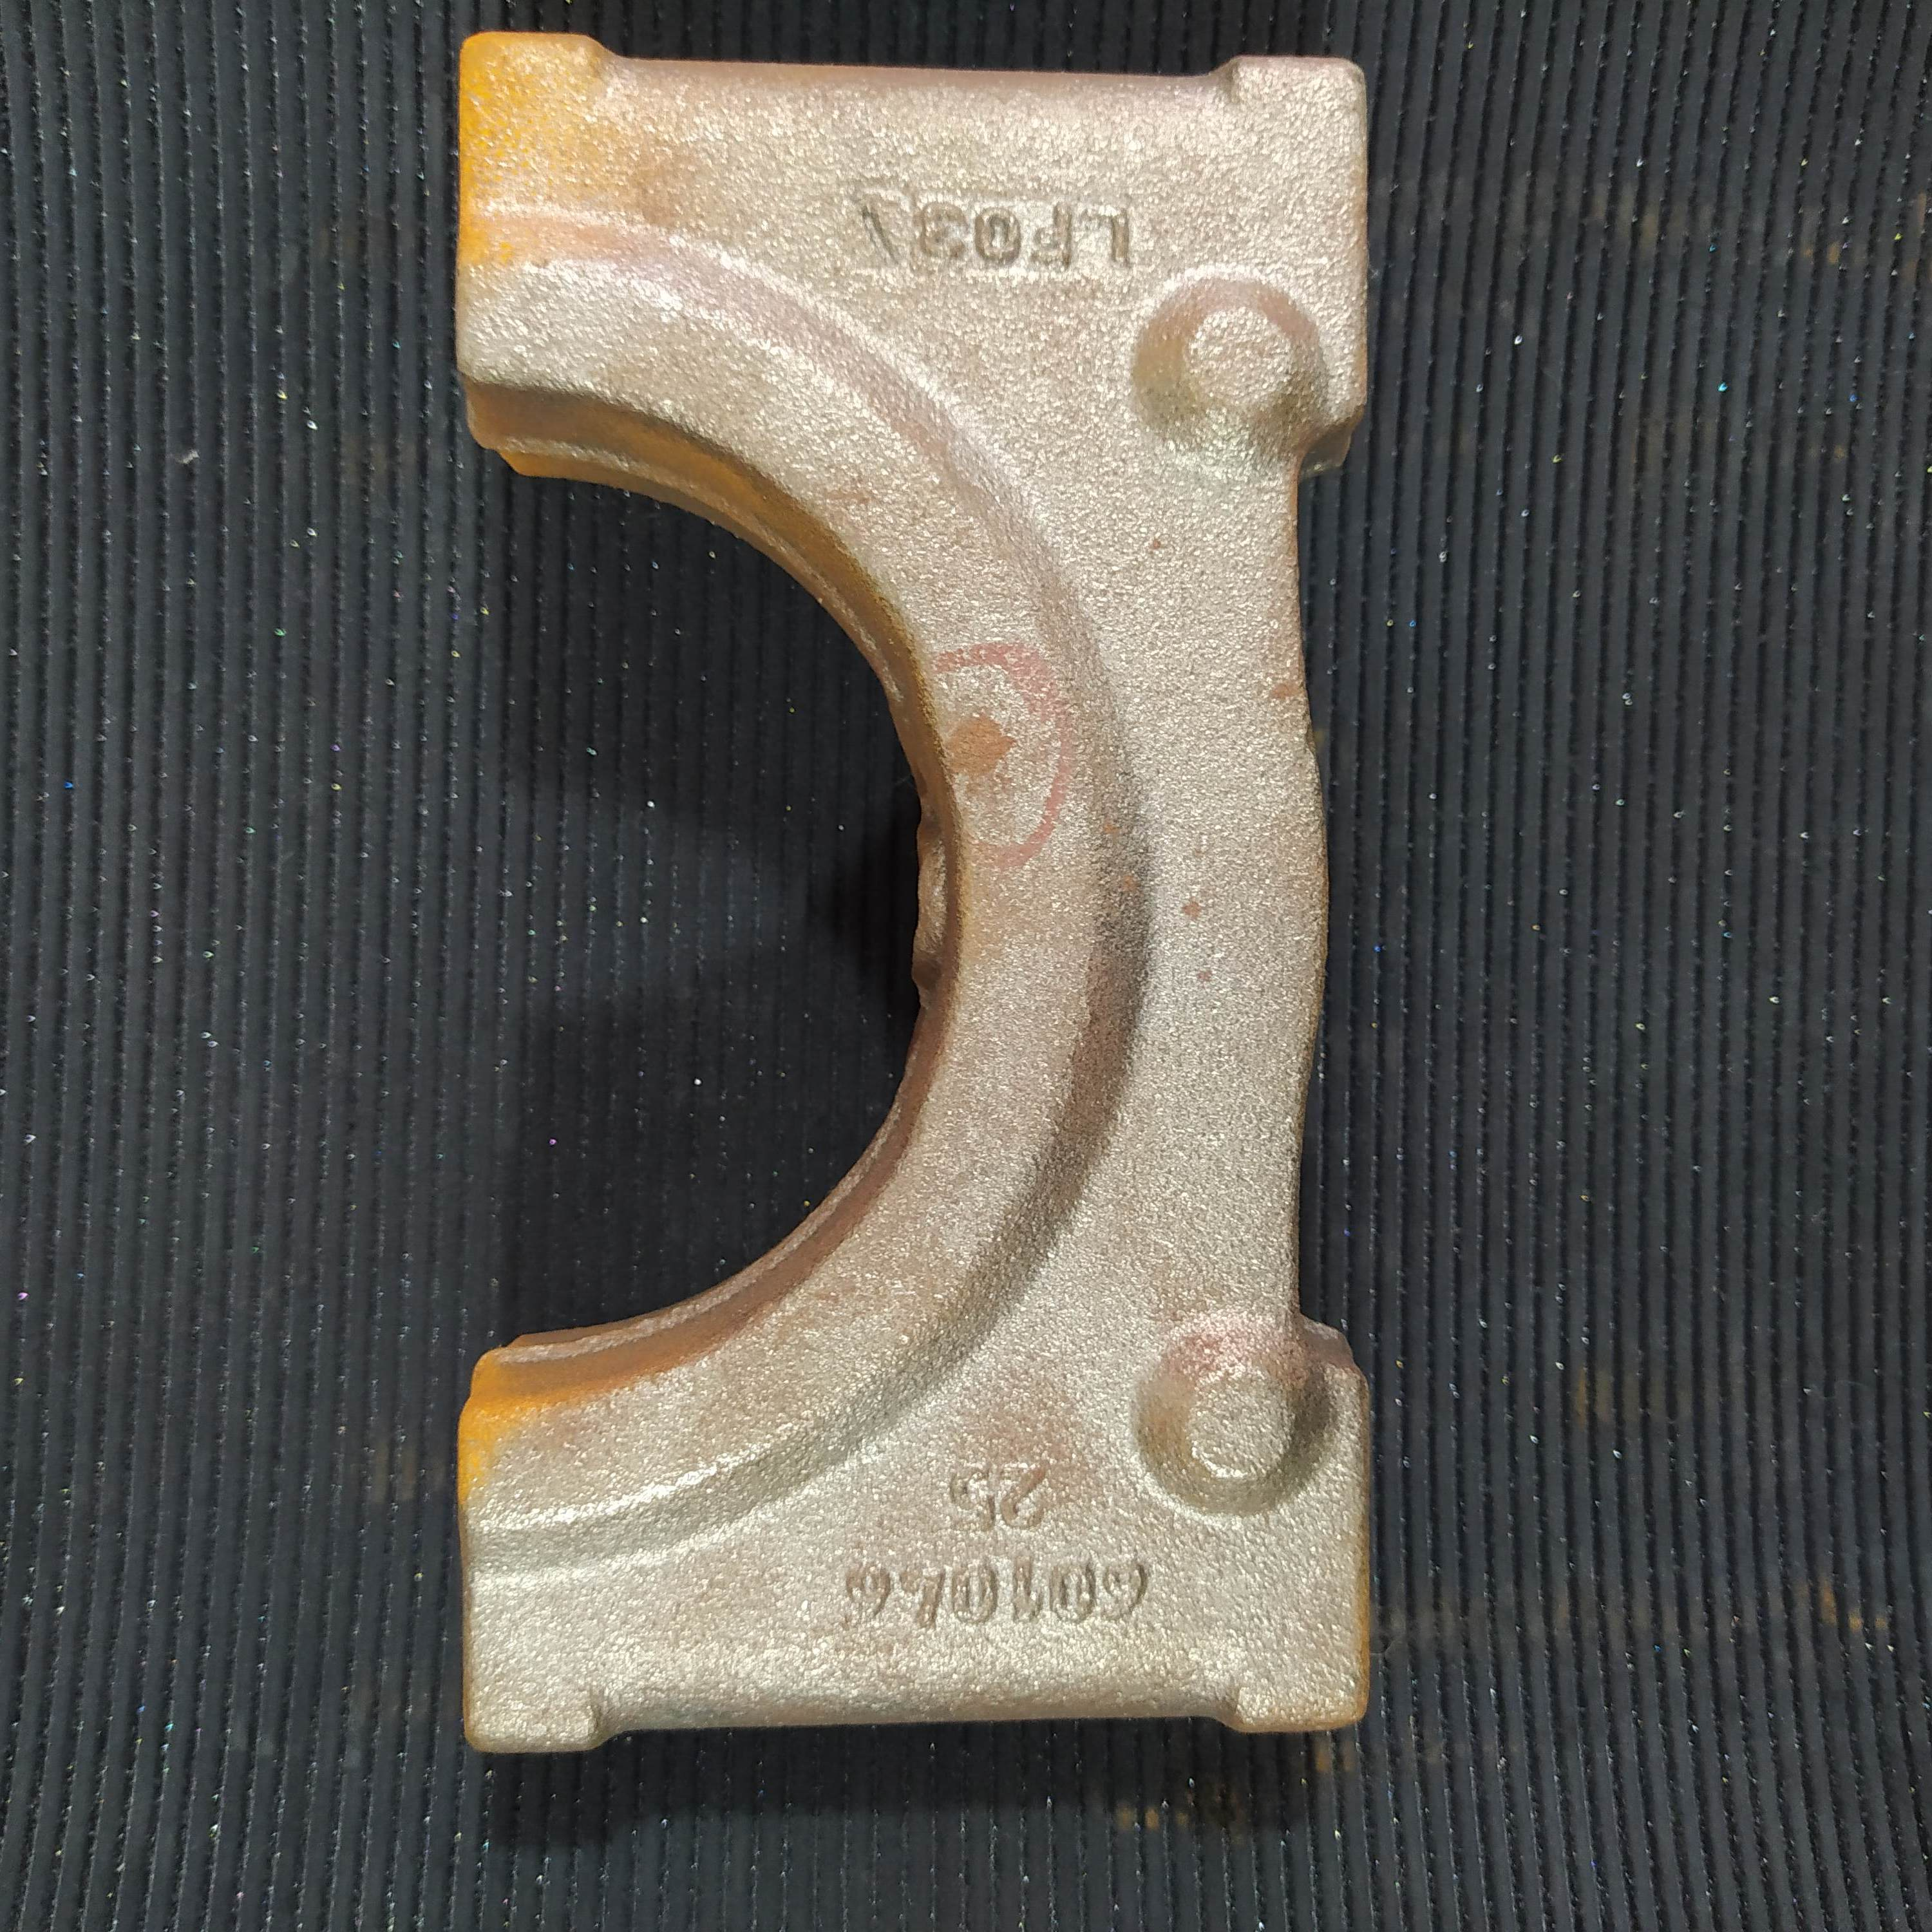mancha (ferrugem): (934, 709, 1019, 782)
